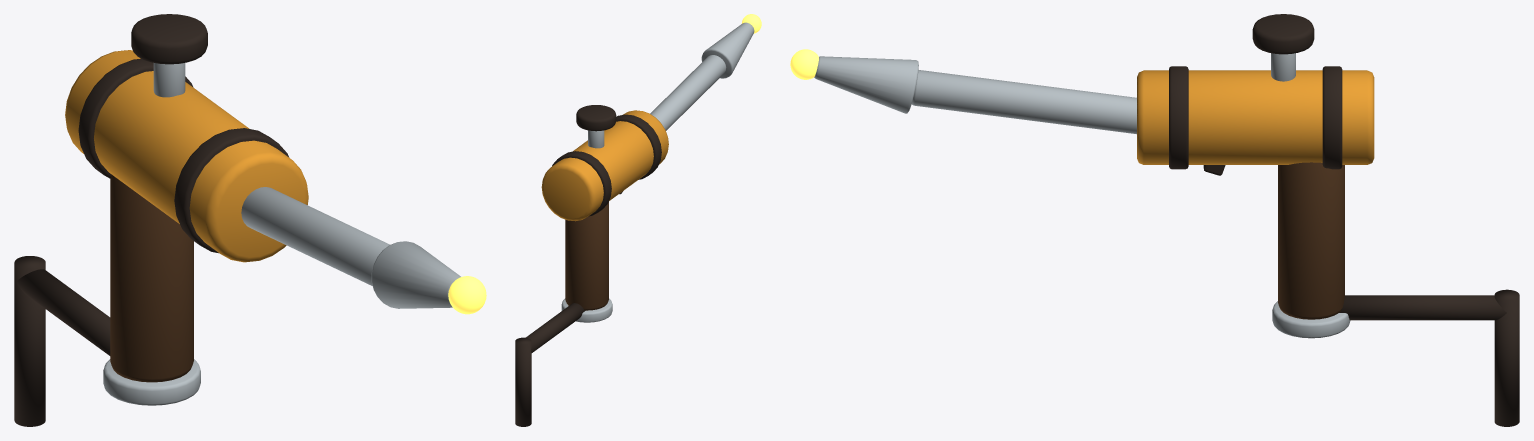
Rendered from welder.glb.
The picture shows the model from 3 angles, left to right: view 1: azimuth 30°, elevation 25°; view 2: azimuth 150°, elevation 25°; view 3: azimuth 270°, elevation 25°; orthographic projection. The views are drawn at different scales.
Parts seen in each view (by area): view 1: WELD_body, WELD_grip, WELD_neck, WELD_hose_b, WELD_nozzle, WELD_hose_a, WELD_valve_knob, WELD_body_band_b, WELD_grip_cap, WELD_body_band_a, WELD_tip_glow, WELD_valve_stem; view 2: WELD_body, WELD_grip, WELD_neck, WELD_hose_b, WELD_nozzle, WELD_hose_a, WELD_valve_knob, WELD_body_band_a, WELD_body_band_b, WELD_grip_cap, WELD_valve_stem; view 3: WELD_body, WELD_grip, WELD_neck, WELD_hose_a, WELD_nozzle, WELD_hose_b, WELD_valve_knob, WELD_body_band_a, WELD_body_band_b, WELD_grip_cap, WELD_tip_glow.
Part boxes in pixels (box(x1,y1,x2,y2)): WELD_body: box(65, 50, 308, 262); WELD_grip: box(110, 174, 193, 382); WELD_neck: box(241, 187, 389, 285); WELD_hose_b: box(14, 256, 45, 426); WELD_nozzle: box(371, 241, 460, 308); WELD_hose_a: box(16, 269, 110, 355); WELD_valve_knob: box(131, 14, 207, 64); WELD_body_band_b: box(174, 128, 289, 253); WELD_grip_cap: box(103, 359, 200, 405); WELD_body_band_a: box(78, 58, 193, 178); WELD_tip_glow: box(448, 276, 486, 314); WELD_valve_stem: box(153, 63, 185, 97); WELD_body: box(541, 110, 668, 221); WELD_grip: box(565, 202, 608, 310); WELD_neck: box(650, 55, 726, 130); WELD_hose_b: box(515, 337, 531, 426); WELD_nozzle: box(701, 22, 754, 78); WELD_hose_a: box(526, 303, 585, 352); WELD_valve_knob: box(576, 105, 616, 131); WELD_body_band_a: box(552, 151, 611, 216); WELD_body_band_b: box(616, 114, 661, 179); WELD_grip_cap: box(561, 298, 612, 322); WELD_valve_stem: box(588, 130, 604, 148); WELD_body: box(1137, 70, 1374, 164); WELD_grip: box(1278, 162, 1344, 319); WELD_neck: box(911, 70, 1136, 134); WELD_hose_a: box(1339, 295, 1506, 320); WELD_nozzle: box(814, 56, 918, 113); WELD_hose_b: box(1494, 289, 1519, 426); WELD_valve_knob: box(1252, 14, 1314, 54); WELD_body_band_a: box(1322, 66, 1342, 169); WELD_body_band_b: box(1169, 66, 1188, 169); WELD_grip_cap: box(1272, 301, 1350, 338); WELD_tip_glow: box(790, 49, 818, 79).
Size of the model in its own units: 0.074 by 0.313 by 0.522.
